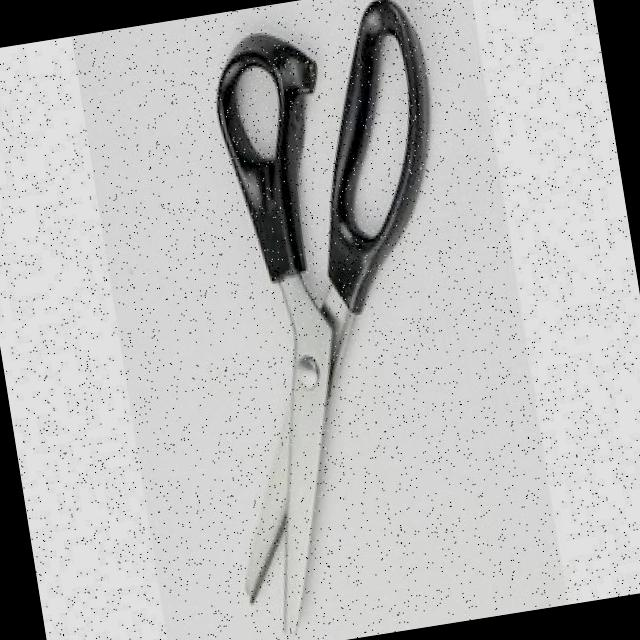scissors: (144, 0, 519, 640)
